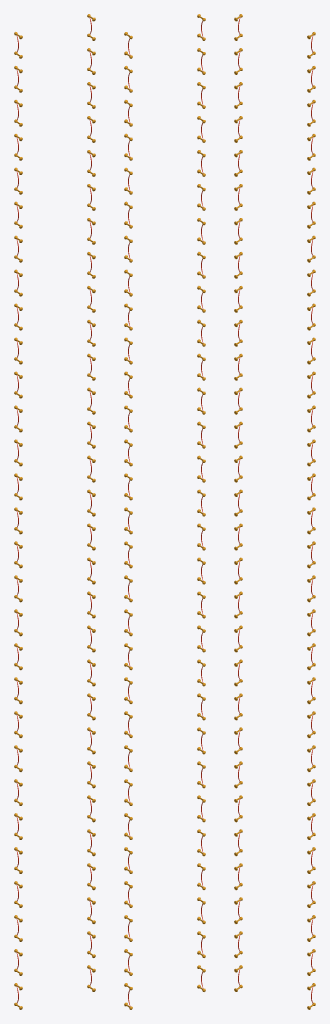
The model's file is platobstac.fbx.
3 views of the same model, side by side, from view 1: azimuth 30°, elevation 25°; view 2: azimuth 210°, elevation 25°; view 3: azimuth 330°, elevation 25° (orthographic).
Parts seen in each view (by area): view 1: NurbsPath.001; view 2: NurbsPath.001; view 3: NurbsPath.001.
Part boxes in pixels (<box>): NurbsPath.001: <box>14,14,95,1009</box>; NurbsPath.001: <box>124,14,205,1009</box>; NurbsPath.001: <box>234,14,315,1009</box>.
Size of the model in its own units: 8.38 by 102 by 1.1.
